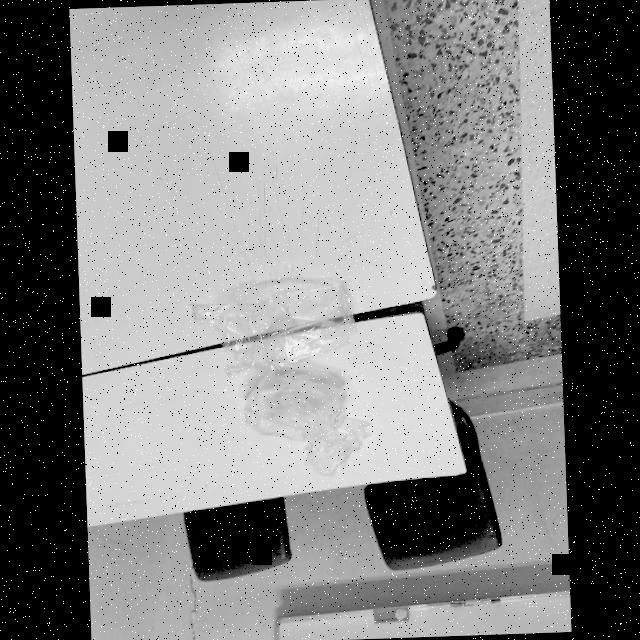plastic_bag: (192, 266, 366, 386), (238, 360, 364, 450), (300, 422, 374, 485)
